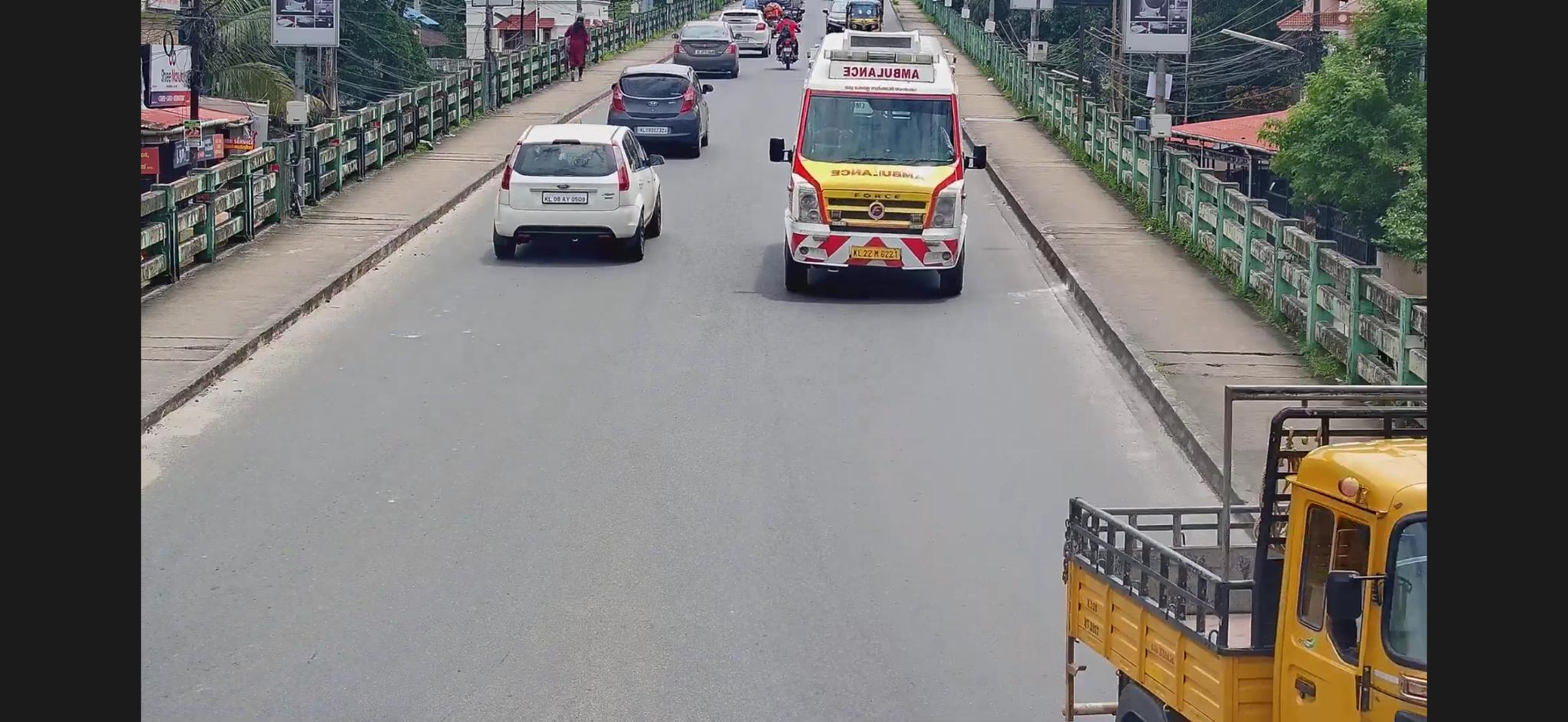ambulance: (768, 22, 974, 297)
